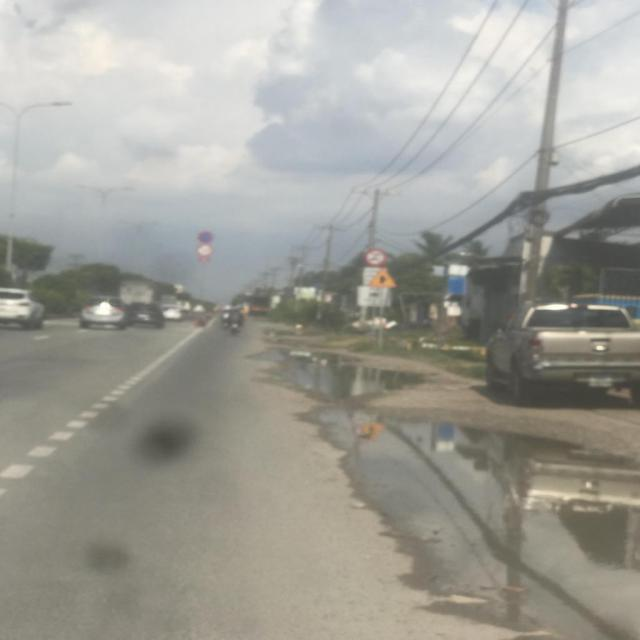107-cam-oto-khach-va-oto-tai: (364, 247, 387, 266)
